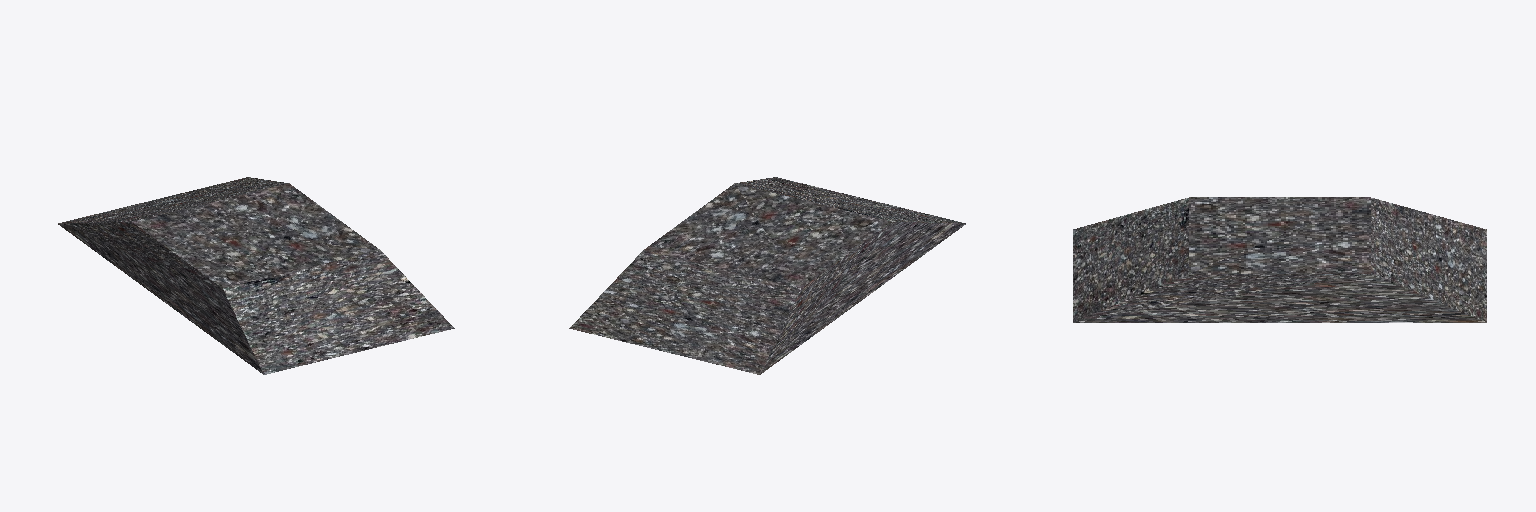
The picture shows the model from 3 angles: view 1: azimuth 30°, elevation 25°; view 2: azimuth 150°, elevation 25°; view 3: azimuth 270°, elevation 25°; orthographic projection.
Visible parts, largest first — view 1: Cube; view 2: Cube; view 3: Cube.
Part boxes in pixels (x1,y1,x2,y2): Cube: (58, 177, 454, 374); Cube: (569, 177, 965, 374); Cube: (1073, 197, 1486, 322).
Bounding box in the file's own units: 3.76 × 0.7553 × 7.06.
Materials: 1 (1 with a texture image).